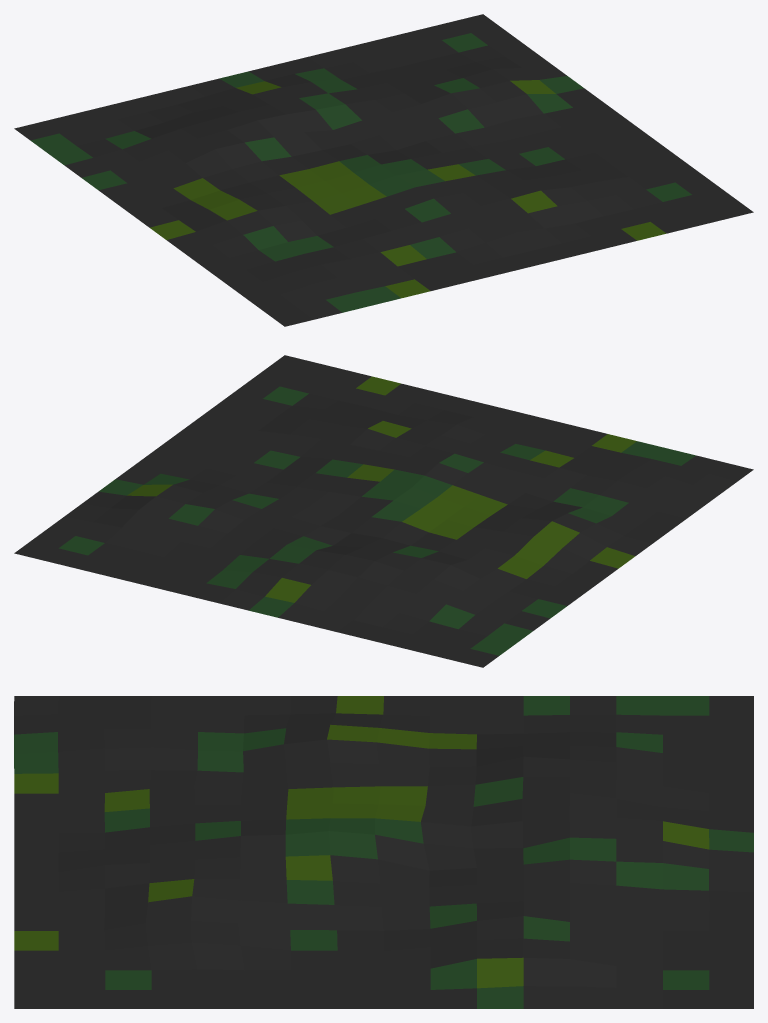
Rendered from Mountain3.FBX.
The picture shows the model from 3 angles, top to bottom: view 1: azimuth 30°, elevation 25°; view 2: azimuth 150°, elevation 25°; view 3: azimuth 270°, elevation 25°; orthographic projection. The views are drawn at different scales.
Parts seen in each view (by area): view 1: Terrain.002; view 2: Terrain.002; view 3: Terrain.002.
Boxes of the visible parts, x1,y1,x2,y2 form: Terrain.002: (14, 14, 753, 326); Terrain.002: (14, 355, 753, 667); Terrain.002: (14, 696, 753, 1008).
Bounding box in the file's own units: 800 × 800 × 23.83.
